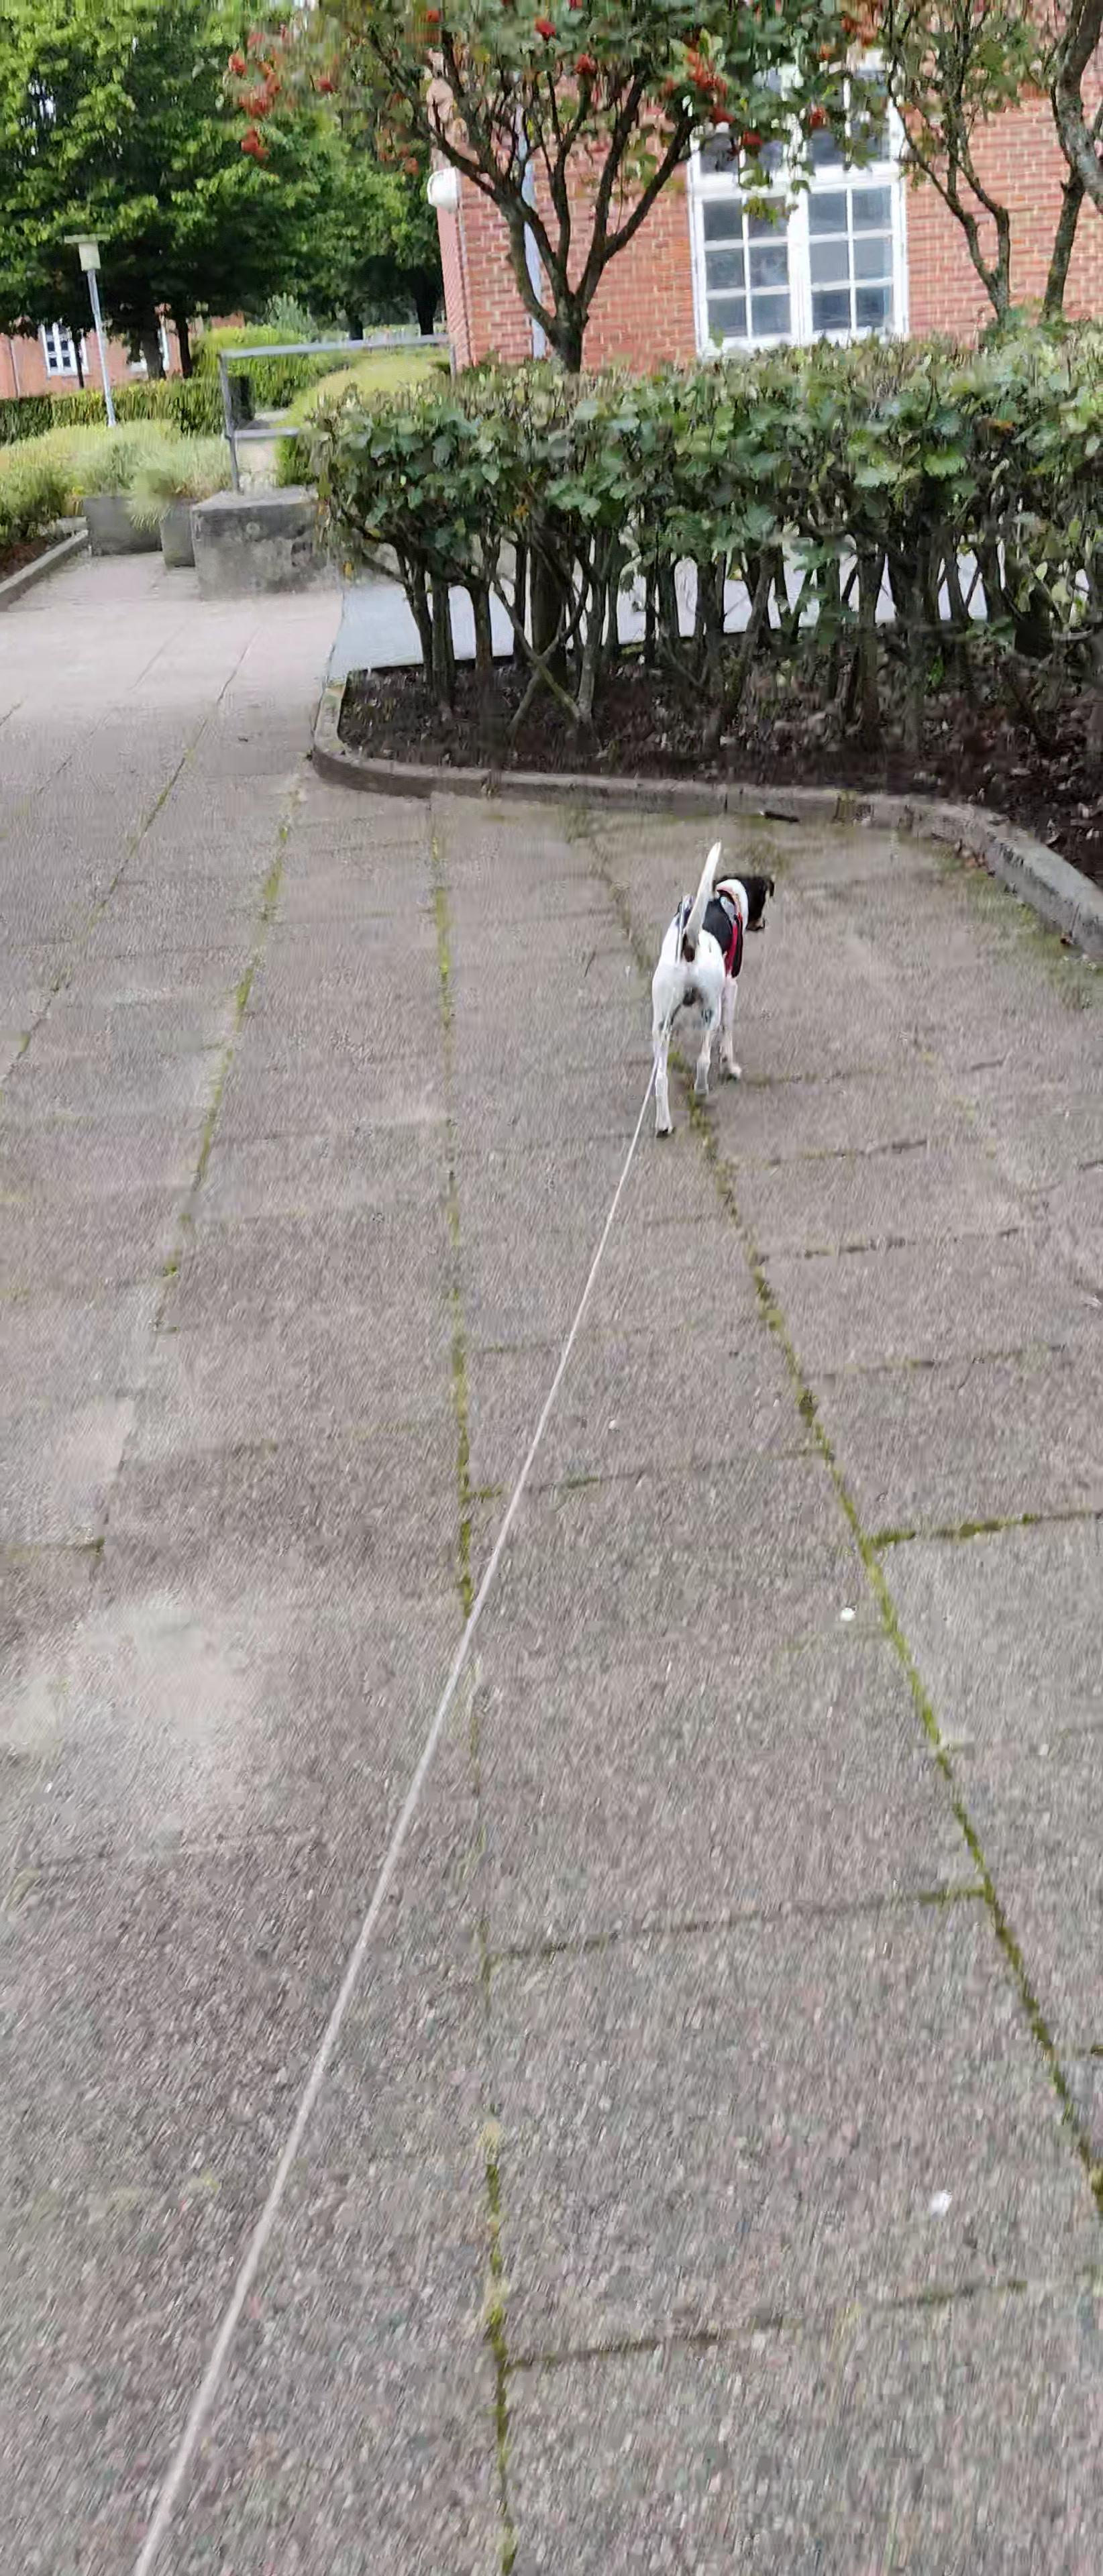Dog: (646, 831, 778, 1143)
